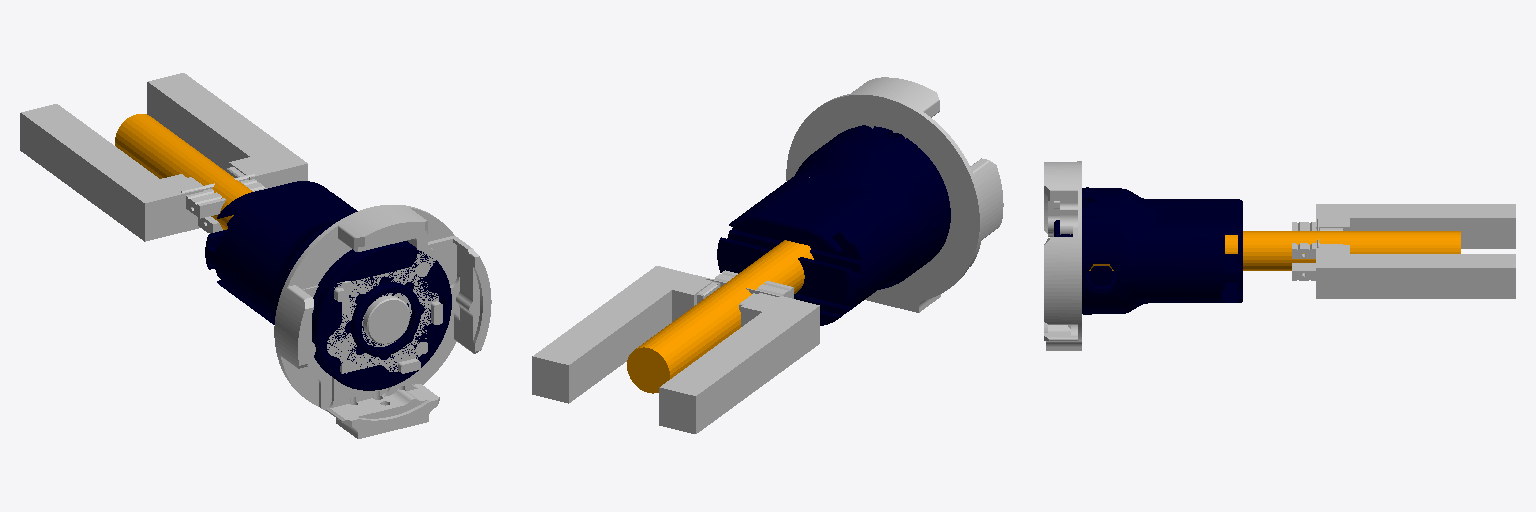
The robot description file, URDF, robot "steripack_robot":
<?xml version="1.0" ?>
<!-- =================================================================================== -->
<!-- |    This document was autogenerated by xacro from [local-path]/mojer/catkin_ws/src/acroba_ros/acroba_resources/urdf/steripack_multitool_robot.xacro | -->
<!-- |    EDITING THIS FILE BY HAND IS NOT RECOMMENDED                                 | -->
<!-- =================================================================================== -->
<robot name="steripack_robot">
  <link name="base_link">
    <visual>
      <geometry>
        <mesh filename="package://acroba_resources/meshes/ur10/visual/base.dae"/>
      </geometry>
      <material name="LightGrey">
        <color rgba="0.7 0.7 0.7 1.0"/>
      </material>
    </visual>
    <collision>
      <geometry>
        <mesh filename="package://acroba_resources/meshes/ur10/collision/base.stl"/>
      </geometry>
    </collision>
    <inertial>
      <mass value="4.0"/>
      <origin rpy="0 0 0" xyz="0.0 0.0 0.0"/>
      <inertia ixx="0.0061063308908" ixy="0.0" ixz="0.0" iyy="0.0061063308908" iyz="0.0" izz="0.01125"/>
    </inertial>
  </link>
  <joint name="shoulder_pan_joint" type="revolute">
    <parent link="base_link"/>
    <child link="shoulder_link"/>
    <origin rpy="0.0 0.0 0.0" xyz="0.0 0.0 0.1273"/>
    <axis xyz="0 0 1"/>
    <limit effort="330.0" lower="-6.283185307179586" upper="6.283185307179586" velocity="2.16"/>
    <dynamics damping="0.0" friction="0.0"/>
  </joint>
  <link name="shoulder_link">
    <visual>
      <geometry>
        <mesh filename="package://acroba_resources/meshes/ur10/visual/shoulder.dae"/>
      </geometry>
      <material name="LightGrey">
        <color rgba="0.7 0.7 0.7 1.0"/>
      </material>
    </visual>
    <collision>
      <geometry>
        <mesh filename="package://acroba_resources/meshes/ur10/collision/shoulder.stl"/>
      </geometry>
    </collision>
    <inertial>
      <mass value="7.778"/>
      <origin rpy="0 0 0" xyz="0.0 0.0 0.0"/>
      <inertia ixx="0.03147431257693659" ixy="0.0" ixz="0.0" iyy="0.03147431257693659" iyz="0.0" izz="0.021875624999999996"/>
    </inertial>
  </link>
  <joint name="shoulder_lift_joint" type="revolute">
    <parent link="shoulder_link"/>
    <child link="upper_arm_link"/>
    <origin rpy="0.0 1.5707963267948966 0.0" xyz="0.0 0.220941 0.0"/>
    <axis xyz="0 1 0"/>
    <limit effort="330.0" lower="-6.283185307179586" upper="6.283185307179586" velocity="2.16"/>
    <dynamics damping="0.0" friction="0.0"/>
  </joint>
  <link name="upper_arm_link">
    <visual>
      <geometry>
        <mesh filename="package://acroba_resources/meshes/ur10/visual/upperarm.dae"/>
      </geometry>
      <material name="LightGrey">
        <color rgba="0.7 0.7 0.7 1.0"/>
      </material>
    </visual>
    <collision>
      <geometry>
        <mesh filename="package://acroba_resources/meshes/ur10/collision/upperarm.stl"/>
      </geometry>
    </collision>
    <inertial>
      <mass value="12.93"/>
      <origin rpy="0 0 0" xyz="0.0 -0.045 0.306"/>
      <inertia ixx="0.42175380379841093" ixy="0.0" ixz="0.0" iyy="0.42175380379841093" iyz="0.0" izz="0.03636562499999999"/>
    </inertial>
  </link>
  <joint name="elbow_joint" type="revolute">
    <parent link="upper_arm_link"/>
    <child link="forearm_link"/>
    <origin rpy="0.0 0.0 0.0" xyz="0.0 -0.1719 0.612"/>
    <axis xyz="0 1 0"/>
    <limit effort="150.0" lower="-3.141592653589793" upper="3.141592653589793" velocity="3.15"/>
    <dynamics damping="0.0" friction="0.0"/>
  </joint>
  <link name="forearm_link">
    <visual>
      <geometry>
        <mesh filename="package://acroba_resources/meshes/ur10/visual/forearm.dae"/>
      </geometry>
      <material name="LightGrey">
        <color rgba="0.7 0.7 0.7 1.0"/>
      </material>
    </visual>
    <collision>
      <geometry>
        <mesh filename="package://acroba_resources/meshes/ur10/collision/forearm.stl"/>
      </geometry>
    </collision>
    <inertial>
      <mass value="3.87"/>
      <origin rpy="0 0 0" xyz="0.0 0.0 0.28615"/>
      <inertia ixx="0.11106969409710458" ixy="0.0" ixz="0.0" iyy="0.11106969409710458" iyz="0.0" izz="0.010884375"/>
    </inertial>
  </link>
  <joint name="wrist_1_joint" type="revolute">
    <parent link="forearm_link"/>
    <child link="wrist_1_link"/>
    <origin rpy="0.0 1.5707963267948966 0.0" xyz="0.0 0.0 0.5723"/>
    <axis xyz="0 1 0"/>
    <limit effort="54.0" lower="-6.283185307179586" upper="6.283185307179586" velocity="3.2"/>
    <dynamics damping="0.0" friction="0.0"/>
  </joint>
  <link name="wrist_1_link">
    <visual>
      <geometry>
        <mesh filename="package://acroba_resources/meshes/ur10/visual/wrist1.dae"/>
      </geometry>
      <material name="LightGrey">
        <color rgba="0.7 0.7 0.7 1.0"/>
      </material>
    </visual>
    <collision>
      <geometry>
        <mesh filename="package://acroba_resources/meshes/ur10/collision/wrist1.stl"/>
      </geometry>
    </collision>
    <inertial>
      <mass value="1.96"/>
      <origin rpy="0 0 0" xyz="0.0 0.1149 0.0"/>
      <inertia ixx="0.005108247956699999" ixy="0.0" ixz="0.0" iyy="0.005108247956699999" iyz="0.0" izz="0.005512499999999999"/>
    </inertial>
  </link>
  <joint name="wrist_2_joint" type="revolute">
    <parent link="wrist_1_link"/>
    <child link="wrist_2_link"/>
    <origin rpy="0.0 0.0 0.0" xyz="0.0 0.1149 0.0"/>
    <axis xyz="0 0 1"/>
    <limit effort="54.0" lower="-6.283185307179586" upper="6.283185307179586" velocity="3.2"/>
    <dynamics damping="0.0" friction="0.0"/>
  </joint>
  <link name="wrist_2_link">
    <visual>
      <geometry>
        <mesh filename="package://acroba_resources/meshes/ur10/visual/wrist2.dae"/>
      </geometry>
      <material name="LightGrey">
        <color rgba="0.7 0.7 0.7 1.0"/>
      </material>
    </visual>
    <collision>
      <geometry>
        <mesh filename="package://acroba_resources/meshes/ur10/collision/wrist2.stl"/>
      </geometry>
    </collision>
    <inertial>
      <mass value="1.96"/>
      <origin rpy="0 0 0" xyz="0.0 0.0 0.1157"/>
      <inertia ixx="0.005108247956699999" ixy="0.0" ixz="0.0" iyy="0.005108247956699999" iyz="0.0" izz="0.005512499999999999"/>
    </inertial>
  </link>
  <joint name="wrist_3_joint" type="revolute">
    <parent link="wrist_2_link"/>
    <child link="wrist_3_link"/>
    <origin rpy="0.0 0.0 0.0" xyz="0.0 0.0 0.1157"/>
    <axis xyz="0 1 0"/>
    <limit effort="54.0" lower="-6.283185307179586" upper="6.283185307179586" velocity="3.2"/>
    <dynamics damping="0.0" friction="0.0"/>
  </joint>
  <link name="wrist_3_link">
    <visual>
      <geometry>
        <mesh filename="package://acroba_resources/meshes/ur10/visual/wrist3.dae"/>
      </geometry>
      <material name="LightGrey">
        <color rgba="0.7 0.7 0.7 1.0"/>
      </material>
    </visual>
    <collision>
      <geometry>
        <mesh filename="package://acroba_resources/meshes/ur10/collision/wrist3.stl"/>
      </geometry>
    </collision>
    <inertial>
      <mass value="0.202"/>
      <origin rpy="1.5707963267948966 0 0" xyz="0.0 0.07695 0.0"/>
      <inertia ixx="0.00011792166116465" ixy="0.0" ixz="0.0" iyy="0.00011792166116465" iyz="0.0" izz="0.00020452500000000002"/>
    </inertial>
  </link>
  <joint name="ee_fixed_joint" type="fixed">
    <parent link="wrist_3_link"/>
    <child link="ee_link"/>
    <origin rpy="0.0 0.0 1.5707963267948966" xyz="0.0 0.0922 0.0"/>
  </joint>
  <link name="ee_link">
    <collision>
      <geometry>
        <box size="0.01 0.01 0.01"/>
      </geometry>
      <origin rpy="0 0 0" xyz="-0.01 0 0"/>
    </collision>
  </link>
  <transmission name="shoulder_pan_trans">
    <type>transmission_interface/SimpleTransmission</type>
    <joint name="shoulder_pan_joint">
      <hardwareInterface>hardware_interface/PositionJointInterface</hardwareInterface>
    </joint>
    <actuator name="shoulder_pan_motor">
      <mechanicalReduction>1</mechanicalReduction>
    </actuator>
  </transmission>
  <transmission name="shoulder_lift_trans">
    <type>transmission_interface/SimpleTransmission</type>
    <joint name="shoulder_lift_joint">
      <hardwareInterface>hardware_interface/PositionJointInterface</hardwareInterface>
    </joint>
    <actuator name="shoulder_lift_motor">
      <mechanicalReduction>1</mechanicalReduction>
    </actuator>
  </transmission>
  <transmission name="elbow_trans">
    <type>transmission_interface/SimpleTransmission</type>
    <joint name="elbow_joint">
      <hardwareInterface>hardware_interface/PositionJointInterface</hardwareInterface>
    </joint>
    <actuator name="elbow_motor">
      <mechanicalReduction>1</mechanicalReduction>
    </actuator>
  </transmission>
  <transmission name="wrist_1_trans">
    <type>transmission_interface/SimpleTransmission</type>
    <joint name="wrist_1_joint">
      <hardwareInterface>hardware_interface/PositionJointInterface</hardwareInterface>
    </joint>
    <actuator name="wrist_1_motor">
      <mechanicalReduction>1</mechanicalReduction>
    </actuator>
  </transmission>
  <transmission name="wrist_2_trans">
    <type>transmission_interface/SimpleTransmission</type>
    <joint name="wrist_2_joint">
      <hardwareInterface>hardware_interface/PositionJointInterface</hardwareInterface>
    </joint>
    <actuator name="wrist_2_motor">
      <mechanicalReduction>1</mechanicalReduction>
    </actuator>
  </transmission>
  <transmission name="wrist_3_trans">
    <type>transmission_interface/SimpleTransmission</type>
    <joint name="wrist_3_joint">
      <hardwareInterface>hardware_interface/PositionJointInterface</hardwareInterface>
    </joint>
    <actuator name="wrist_3_motor">
      <mechanicalReduction>1</mechanicalReduction>
    </actuator>
  </transmission>
  <gazebo reference="shoulder_link">
    <selfCollide>true</selfCollide>
  </gazebo>
  <gazebo reference="upper_arm_link">
    <selfCollide>true</selfCollide>
  </gazebo>
  <gazebo reference="forearm_link">
    <selfCollide>true</selfCollide>
  </gazebo>
  <gazebo reference="wrist_1_link">
    <selfCollide>true</selfCollide>
  </gazebo>
  <gazebo reference="wrist_3_link">
    <selfCollide>true</selfCollide>
  </gazebo>
  <gazebo reference="wrist_2_link">
    <selfCollide>true</selfCollide>
  </gazebo>
  <gazebo reference="ee_link">
    <selfCollide>true</selfCollide>
  </gazebo>
  <!-- ROS base_link to UR 'Base' Coordinates transform -->
  <link name="base"/>
  <joint name="base_link-base_fixed_joint" type="fixed">
    <!-- NOTE: this rotation is only needed as long as base_link itself is
                 not corrected wrt the real robot (ie: rotated over 180
                 degrees)
      -->
    <origin rpy="0 0 -3.141592653589793" xyz="0 0 0"/>
    <parent link="base_link"/>
    <child link="base"/>
  </joint>
  <!-- Frame coincident with all-zeros TCP on UR controller -->
  <link name="tool0"/>
  <joint name="wrist_3_link-tool0_fixed_joint" type="fixed">
    <origin rpy="-1.5707963267948966 0 0" xyz="0 0.0922 0"/>
    <parent link="wrist_3_link"/>
    <child link="tool0"/>
  </joint>
  <material name="schunk_dark_grey">
    <color rgba="0.3 0.3 0.3 1.0"/>
  </material>
  <material name="schunk_grey">
    <color rgba="0.8 0.8 0.8 1.0"/>
  </material>
  <material name="schunk_blue">
    <color rgba="0. 0. 0.2 1.0"/>
  </material>
  <link name="base_tool"/>
  <link name="tool_adaptor">
    <visual>
      <origin rpy="0 0 0" xyz="0 0 0.0"/>
      <geometry>
        <mesh filename="package://acroba_resources/meshes/schunk_EGP40/base.stl" scale="0.001 0.001 0.001"/>
      </geometry>
      <material name="schunk_grey"/>
    </visual>
    <collision>
      <origin rpy="0 0 0" xyz="0 0 -0.0015"/>
      <geometry>
        <cylinder length="0.019" radius="0.045"/>
      </geometry>
    </collision>
  </link>
  <link name="tool_body">
    <visual>
      <origin rpy="0 0 0" xyz="0 0 0.0"/>
      <geometry>
        <mesh filename="package://acroba_resources/meshes/schunk_EGP40/body.stl" scale="0.001 0.001 0.001"/>
      </geometry>
      <material name="schunk_blue"/>
    </visual>
    <collision>
      <origin rpy="0 0 0" xyz="0 0 0.0"/>
      <geometry>
        <mesh filename="package://acroba_resources/meshes/schunk_EGP40/body_convex.stl" scale="0.001 0.001 0.001"/>
      </geometry>
    </collision>
  </link>
  <link name="left_finger">
    <visual>
      <origin rpy="0 0 0" xyz="0 0 0.0"/>
      <geometry>
        <mesh filename="package://acroba_resources/meshes/schunk_EGP40/finger_1.stl" scale="0.001 0.001 0.001"/>
      </geometry>
      <material name="schunk_grey"/>
    </visual>
    <collision>
      <origin rpy="0 0 0" xyz="-0.011 0 0.1325"/>
      <geometry>
        <box size="0.006 0.017 0.017"/>
      </geometry>
    </collision>
  </link>
  <link name="right_finger">
    <visual>
      <origin rpy="0 0 0" xyz="0 0 0.0"/>
      <geometry>
        <mesh filename="package://acroba_resources/meshes/schunk_EGP40/finger_2.stl" scale="0.001 0.001 0.001"/>
      </geometry>
      <material name="schunk_grey"/>
    </visual>
    <collision>
      <origin rpy="0 0 0" xyz="0.011 0 0.1325"/>
      <geometry>
        <box size="0.006 0.017 0.017"/>
      </geometry>
    </collision>
  </link>
  <joint name="_tool_base_adaptor" type="fixed">
    <origin rpy="0 0 0" xyz="0 0 0.0"/>
    <parent link="base_tool"/>
    <child link="tool_adaptor"/>
  </joint>
  <joint name="_tool_adaptor_body" type="fixed">
    <origin rpy="0 0 0" xyz="0 0 0.0"/>
    <parent link="tool_adaptor"/>
    <child link="tool_body"/>
  </joint>
  <joint name="_left_joint" type="prismatic">
    <origin rpy="0 0 0" xyz="0 0 0.0"/>
    <parent link="tool_body"/>
    <child link="left_finger"/>
    <axis xyz="1 0 0"/>
    <limit effort="215" lower="0" upper="0.006" velocity="10"/>
  </joint>
  <joint name="_right_joint" type="prismatic">
    <origin rpy="0 0 0" xyz="0 0 0.0"/>
    <parent link="tool_body"/>
    <child link="right_finger"/>
    <axis xyz="-1 0 0"/>
    <limit effort="215" lower="0" upper="0.006" velocity="10"/>
  </joint>
  <link name="tool_tip"/>
  <joint name="_end_tool" type="fixed">
    <origin rpy="0 0 0" xyz="0 0 0.136"/>
    <parent link="tool_body"/>
    <child link="tool_tip"/>
  </joint>
  <link name="right_extension">
    <visual>
      <origin rpy="0 0 0" xyz="0.016 0 0.136"/>
      <geometry>
        <box size="0.01 0.017 0.017"/>
      </geometry>
      <material name="schunk_grey"/>
    </visual>
    <visual>
      <origin rpy="0 0 0" xyz="0.0295 0 0.1775"/>
      <geometry>
        <box size="0.017 0.017 0.1"/>
      </geometry>
      <material name="schunk_grey"/>
    </visual>
    <collision>
      <origin rpy="0 0 0" xyz="0.016 0 0.136"/>
      <geometry>
        <box size="0.01 0.017 0.017"/>
      </geometry>
    </collision>
    <collision>
      <origin rpy="0 0 0" xyz="0.0295 0 0.1775"/>
      <geometry>
        <box size="0.017 0.017 0.1"/>
      </geometry>
    </collision>
  </link>
  <link name="left_extension">
    <visual>
      <origin rpy="0 0 0" xyz="-0.016 0 0.136"/>
      <geometry>
        <box size="0.01 0.017 0.017"/>
      </geometry>
      <material name="schunk_grey"/>
    </visual>
    <visual>
      <origin rpy="0 0 0" xyz="-0.0295 0 0.1775"/>
      <geometry>
        <box size="0.017 0.017 0.1"/>
      </geometry>
      <material name="schunk_grey"/>
    </visual>
    <collision>
      <origin rpy="0 0 0" xyz="-0.016 0 0.136"/>
      <geometry>
        <box size="0.01 0.017 0.017"/>
      </geometry>
    </collision>
    <collision>
      <origin rpy="0 0 0" xyz="-0.0295 0 0.1775"/>
      <geometry>
        <box size="0.017 0.017 0.1"/>
      </geometry>
    </collision>
  </link>
  <joint name="extension_joint_right" type="fixed">
    <origin rpy="0.0 0.0 0.0" xyz="0.0 0.0 0.0"/>
    <parent link="right_finger"/>
    <child link="right_extension"/>
  </joint>
  <joint name="extension_joint_left" type="fixed">
    <origin rpy="0.0 0.0 0.0" xyz="0.0 0.0 0.0"/>
    <parent link="left_finger"/>
    <child link="left_extension"/>
  </joint>
  <link name="end_tool"/>
  <joint name="joint_tip_end" type="fixed">
    <origin rpy="0.0 0.0 0.0" xyz="0.0 0.0 0.0915"/>
    <parent link="tool_tip"/>
    <child link="end_tool"/>
  </joint>
  <link name="world"/>
  <joint name="world_joint" type="fixed">
    <parent link="world"/>
    <child link="base_link"/>
    <origin rpy="0 0 0" xyz="0 0 0"/>
  </joint>
  <link name="common_tool"/>
  <joint name="common_tool_joint" type="fixed">
    <parent link="tool0"/>
    <child link="common_tool"/>
    <origin rpy="0.0 0.0 0.0" xyz="0.0 0.0 0.0"/>
  </joint>
  <joint name="tool_joint1" type="fixed">
    <parent link="common_tool"/>
    <child link="base_tool"/>
    <origin rpy="0.0 0.0 0.0" xyz="0.0 0.0 0.0"/>
  </joint>
  <link name="tool_drill">
    <visual>
      <origin rpy="0 0 0" xyz="0 0 0.1"/>
      <geometry>
        <cylinder length="0.2" radius="0.01"/>
      </geometry>
      <material name="drill_color">
        <color rgba="1 0.64 0.0 1.0"/>
      </material>
    </visual>
    <collision>
      <origin rpy="0 0 0" xyz="0 0 0.1"/>
      <geometry>
        <cylinder length="0.2" radius="0.01"/>
      </geometry>
    </collision>
  </link>
  <joint name="tool_joint2" type="fixed">
    <parent link="common_tool"/>
    <child link="tool_drill"/>
    <origin rpy="0.0 0.0 0.0" xyz="0.0 0.0 0"/>
  </joint>
  <link name="end_drill"/>
  <joint name="joint_drill" type="fixed">
    <parent link="tool_drill"/>
    <child link="end_drill"/>
    <origin rpy="0.0 0.0 0.0" xyz="0.0 0.0 0.2"/>
  </joint>
</robot>

--- Render facts (derived) ---
The picture shows the robot from 3 angles, left to right: view 1: azimuth 30°, elevation 25°; view 2: azimuth 150°, elevation 25°; view 3: azimuth 270°, elevation 25°; orthographic projection.
Model steripack_robot with 23 links and 22 joints (6 revolute, 2 prismatic, 14 fixed), rooted at world, posed every joint at zero.
Links seen in each view (by area): view 1: tool_adaptor, tool_body, right_extension, left_extension, tool_drill, left_finger; view 2: tool_body, tool_adaptor, right_extension, left_extension, tool_drill, left_finger; view 3: tool_body, left_extension, tool_adaptor, right_extension, tool_drill, left_finger.
Boxes of the visible links, x1=… form: tool_adaptor: x1=274, y1=205, x2=491, y2=438; tool_body: x1=205, y1=181, x2=451, y2=390; right_extension: x1=20, y1=104, x2=202, y2=241; left_extension: x1=147, y1=73, x2=307, y2=188; tool_drill: x1=115, y1=114, x2=289, y2=269; left_finger: x1=181, y1=167, x2=266, y2=218; tool_body: x1=717, y1=125, x2=950, y2=325; tool_adaptor: x1=786, y1=77, x2=1003, y2=312; right_extension: x1=659, y1=291, x2=819, y2=433; left_extension: x1=532, y1=266, x2=713, y2=403; tool_drill: x1=627, y1=240, x2=813, y2=393; left_finger: x1=697, y1=270, x2=793, y2=303; tool_body: x1=1054, y1=187, x2=1242, y2=314; left_extension: x1=1316, y1=245, x2=1515, y2=298; tool_adaptor: x1=1044, y1=161, x2=1081, y2=350; right_extension: x1=1316, y1=204, x2=1515, y2=248; tool_drill: x1=1089, y1=231, x2=1460, y2=270; left_finger: x1=1292, y1=218, x2=1342, y2=258.
Bounding box of the posed robot: 0.09 × 0.2355 × 0.092 m (x, y, z).
Meshes: 11 distinct files referenced, 4 mesh visuals loaded (4 binary STL); not drawn: 7 (reference not matched to a file when rendering).
